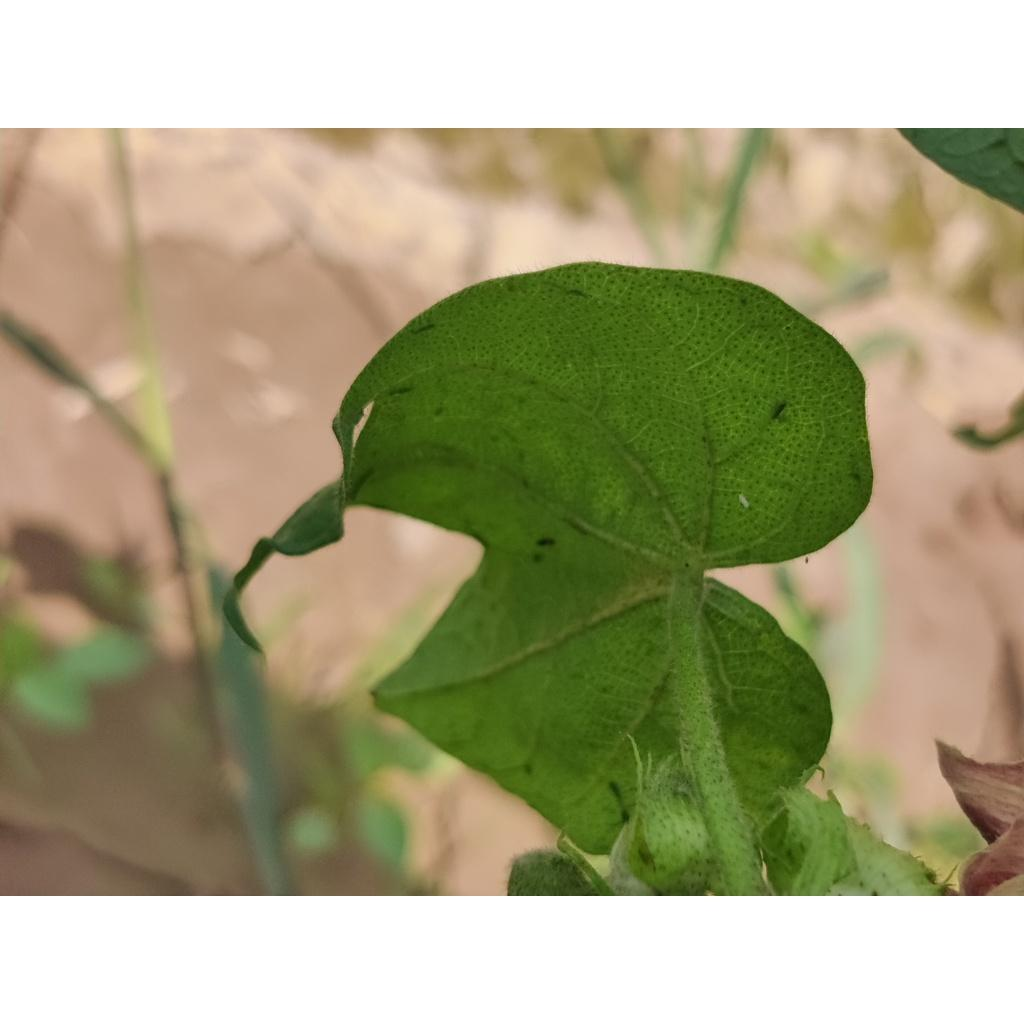adult: (737, 493, 750, 508)
